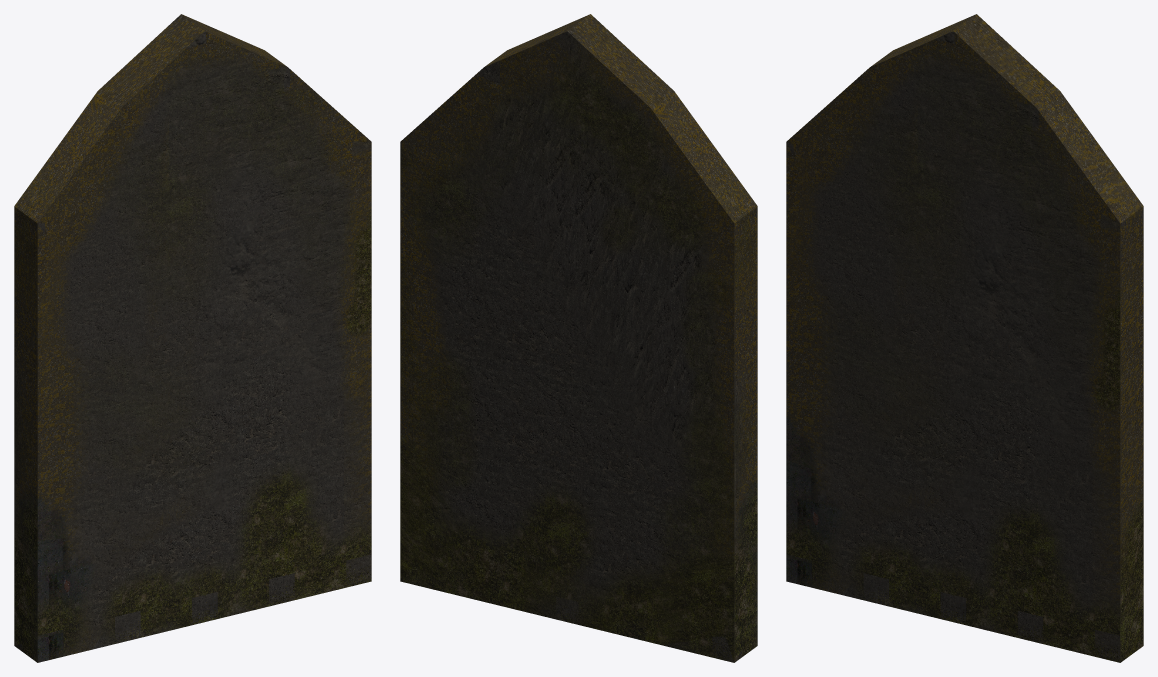
The picture shows the model from 3 angles, left to right: view 1: azimuth 30°, elevation 25°; view 2: azimuth 150°, elevation 25°; view 3: azimuth 330°, elevation 25°; orthographic projection.
Parts seen in each view (by area): view 1: Cube.005; view 2: Cube.005; view 3: Cube.005.
Boxes of the visible parts, x1,y1,x2,y2 form: Cube.005: (14, 14, 371, 662); Cube.005: (400, 14, 757, 662); Cube.005: (786, 14, 1143, 662).
Bounding box in the file's own units: 200 × 338 × 24.32.
Materials: 1 (1 with a texture image).
